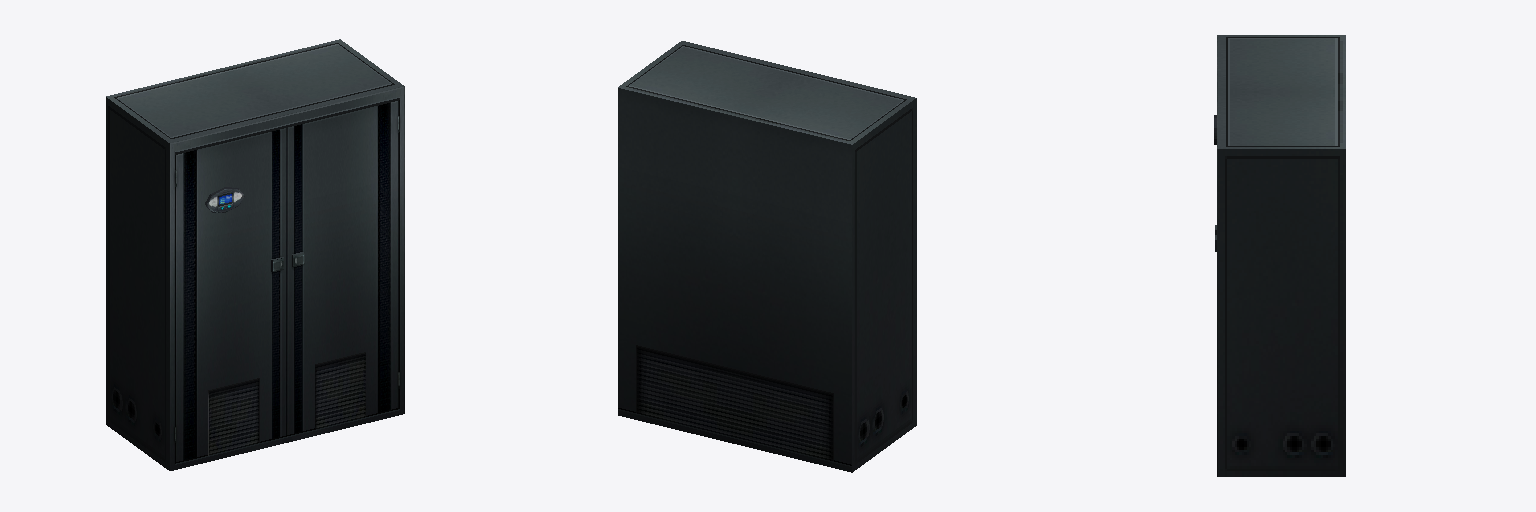
3 renders of one model, left to right at view 1: azimuth 30°, elevation 25°; view 2: azimuth 150°, elevation 25°; view 3: azimuth 270°, elevation 25°, orthographic.
Parts seen in each view (by area): view 1: Object001; view 2: Object001; view 3: Object001.
Part boxes in pixels (bbox=[...]): Object001: bbox=[106, 39, 404, 470]; Object001: bbox=[618, 41, 916, 472]; Object001: bbox=[1214, 35, 1345, 476].
Size of the model in its own units: 108 by 144 by 52.55.
1 materials, 1 textured.